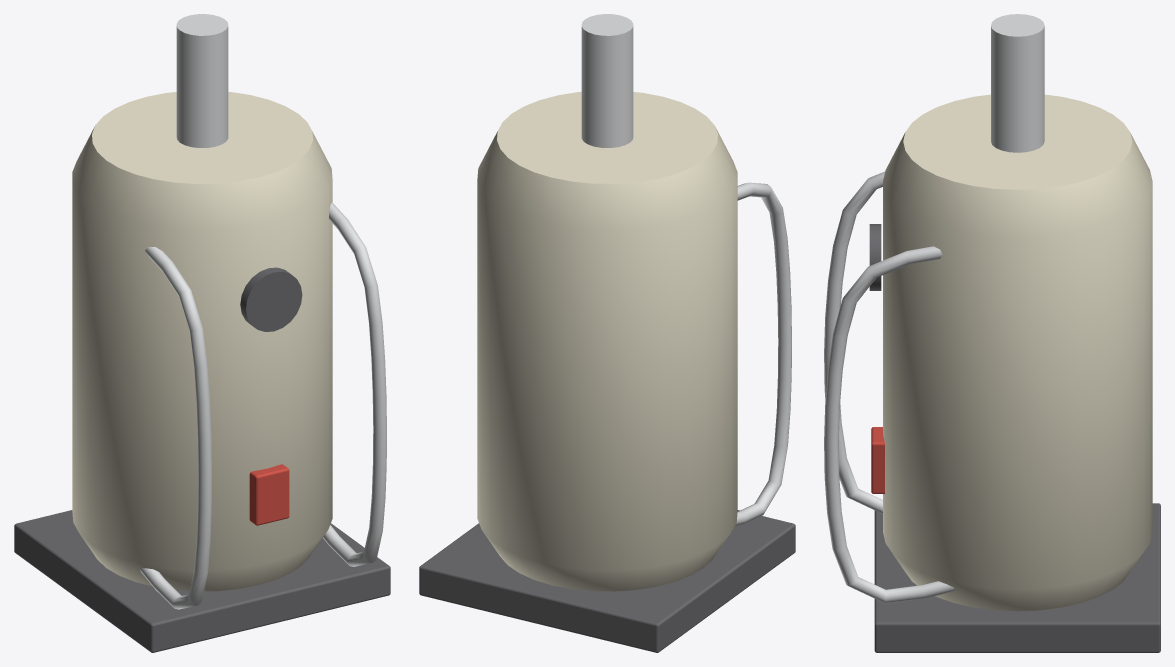
File: prison-complex-builder-service-boiler-9d31aeea__25692.glb
The picture shows the model from 3 angles, left to right: view 1: azimuth 30°, elevation 25°; view 2: azimuth 150°, elevation 25°; view 3: azimuth 270°, elevation 25°; orthographic projection. The views are drawn at different scales.
Parts seen in each view (by area): view 1: service-boiler; view 2: service-boiler; view 3: service-boiler.
Boxes of the visible parts, x1,y1,x2,y2 form: service-boiler: (14,14,390,652); service-boiler: (419,14,795,652); service-boiler: (824,14,1160,652).
Bounding box in the file's own units: 0.85 × 1.86 × 1.
